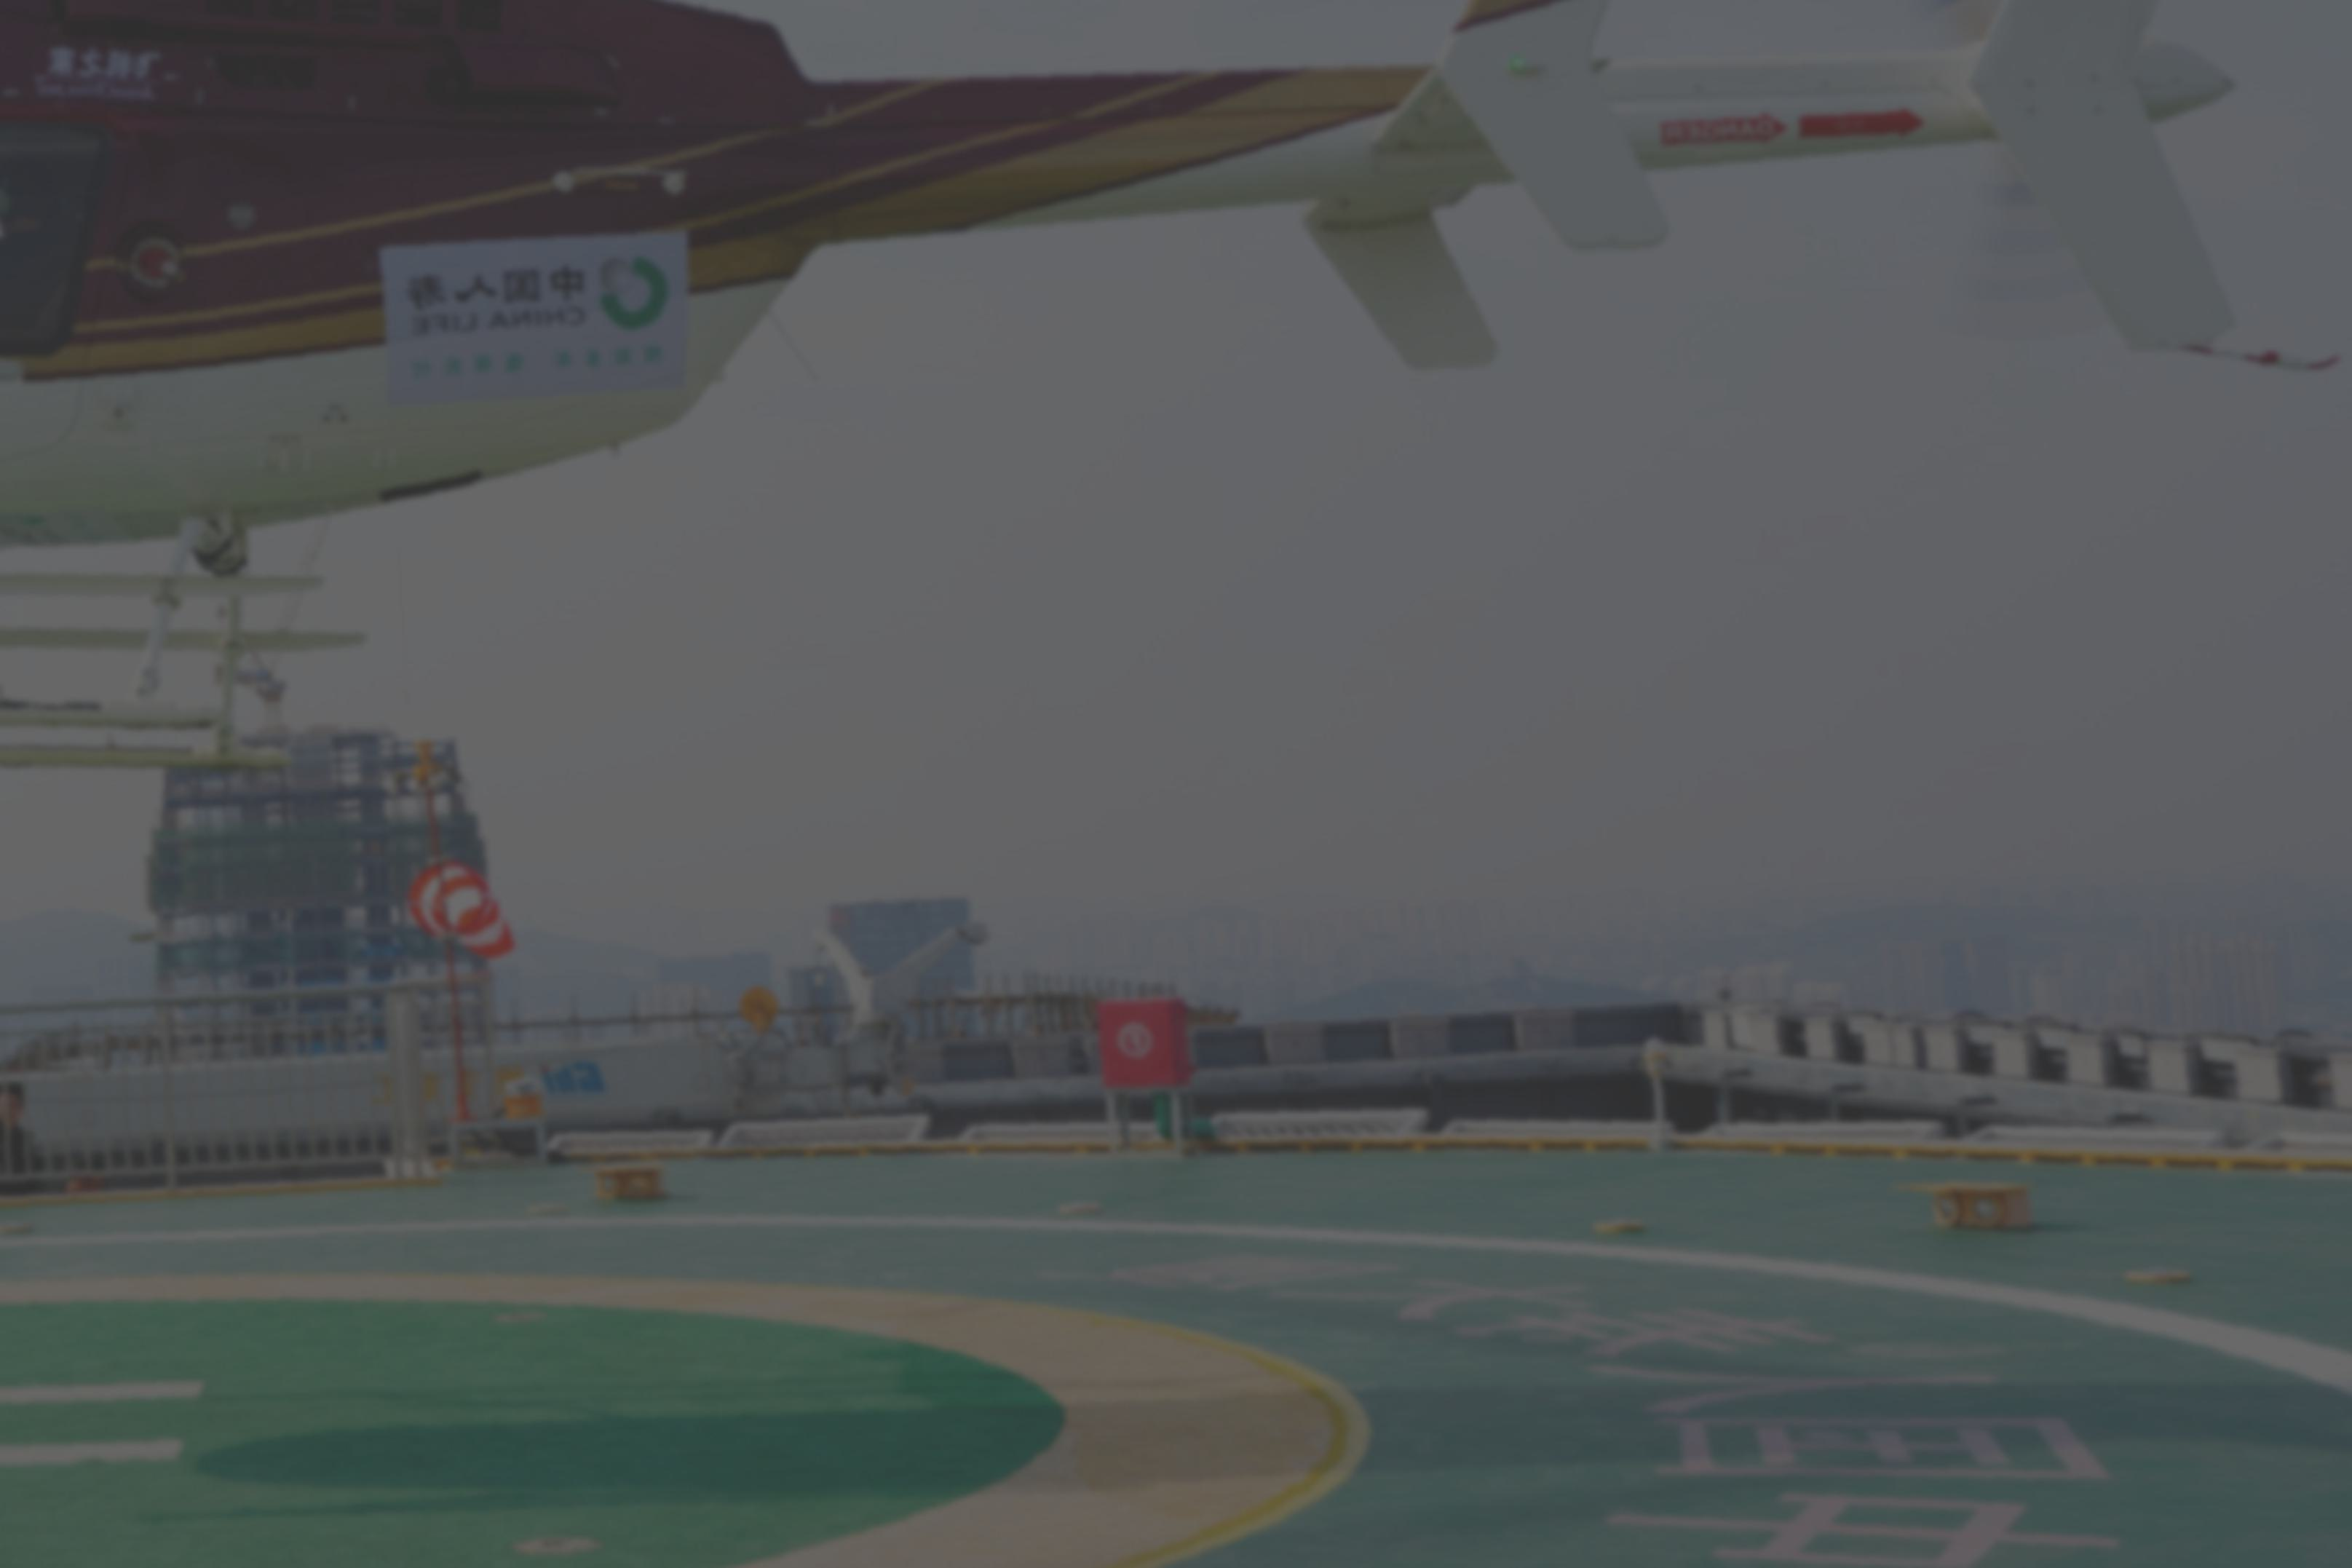Apron: (0, 1267, 1407, 1559)
